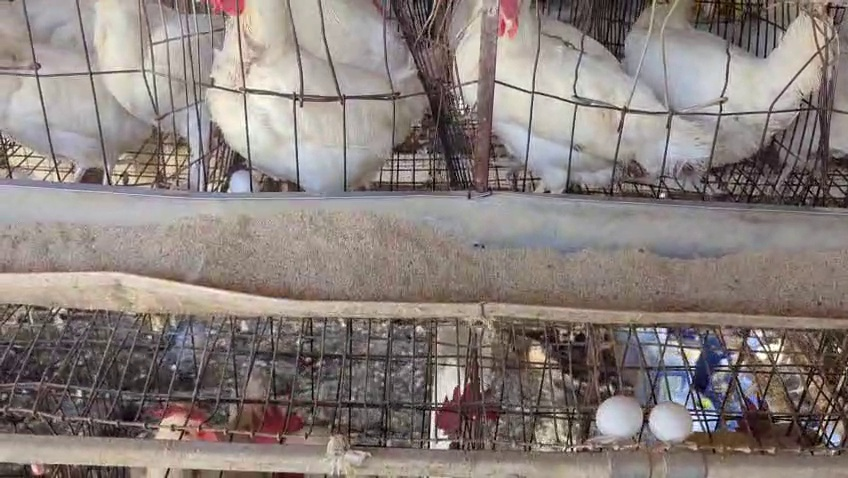egg: (636, 395, 704, 450), (589, 384, 648, 447), (223, 163, 265, 206)
